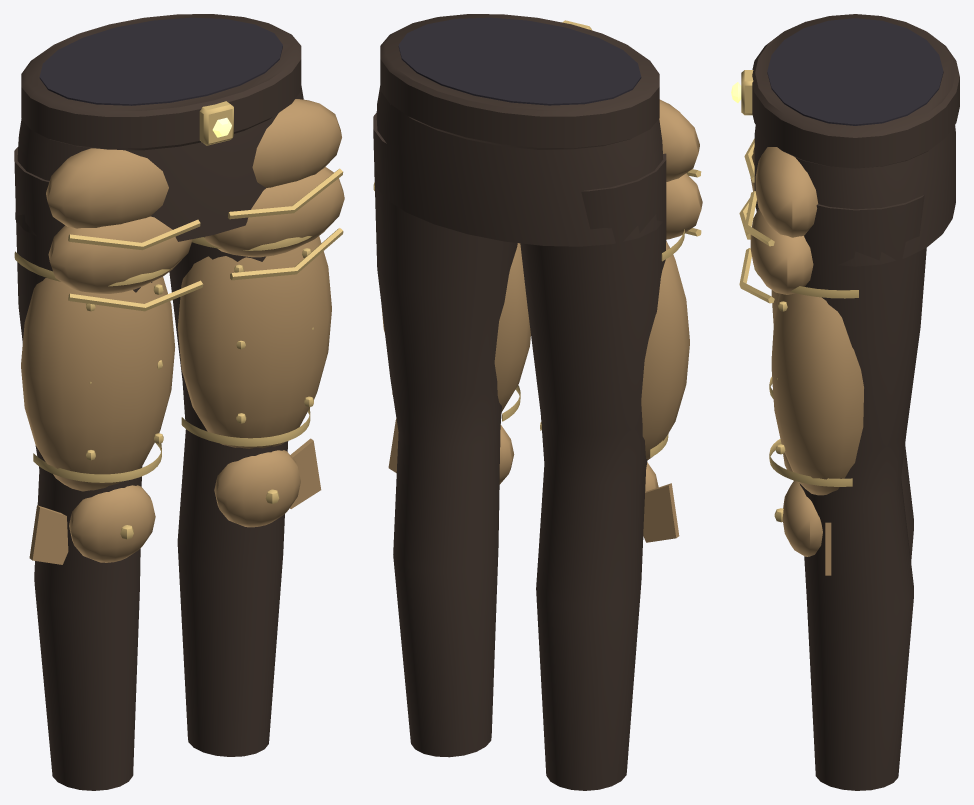
Rendered from u_echoing_legplates.glb.
The picture shows the model from 3 angles, left to right: view 1: azimuth 30°, elevation 25°; view 2: azimuth 150°, elevation 25°; view 3: azimuth 270°, elevation 25°; orthographic projection. The views are drawn at different scales.
Parts seen in each view (by area): view 1: u_echoing_legplates; view 2: u_echoing_legplates; view 3: u_echoing_legplates.
Boxes of the visible parts, <box> form: u_echoing_legplates: <box>14,14,344,790</box>; u_echoing_legplates: <box>373,14,702,790</box>; u_echoing_legplates: <box>731,14,959,790</box>.
Size of the model in its own units: 0.3184 by 0.7066 by 0.2182.
